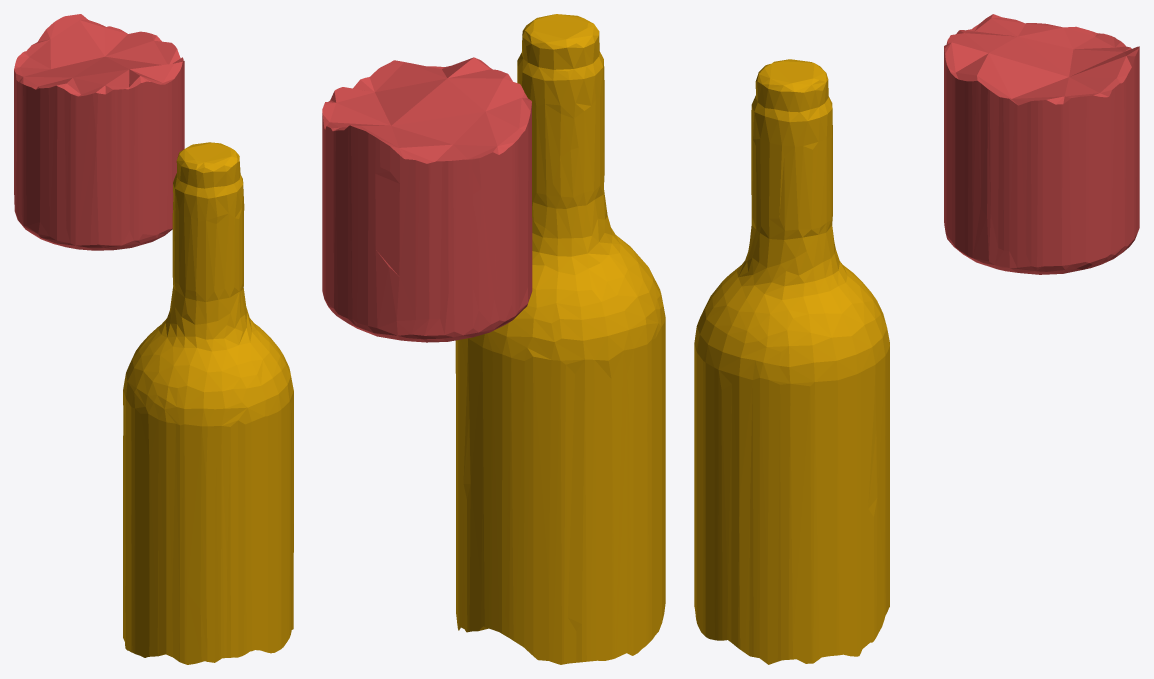
Rendered from fractured_71_2pcs_transformed.glb.
The picture shows the model from 3 angles, left to right: view 1: azimuth 30°, elevation 25°; view 2: azimuth 150°, elevation 25°; view 3: azimuth 270°, elevation 25°; orthographic projection. The views are drawn at different scales.
Parts seen in each view (by area): view 1: piece_0.obj, piece_1.obj; view 2: piece_0.obj, piece_1.obj; view 3: piece_0.obj, piece_1.obj.
Boxes of the visible parts, x1,y1,x2,y2 form: piece_0.obj: (123, 142, 293, 664); piece_1.obj: (14, 14, 184, 250); piece_0.obj: (455, 14, 665, 664); piece_1.obj: (322, 57, 532, 342); piece_0.obj: (694, 59, 889, 664); piece_1.obj: (944, 14, 1139, 274).
Size of the model in its own units: 0.2438 by 0.8071 by 0.555.
